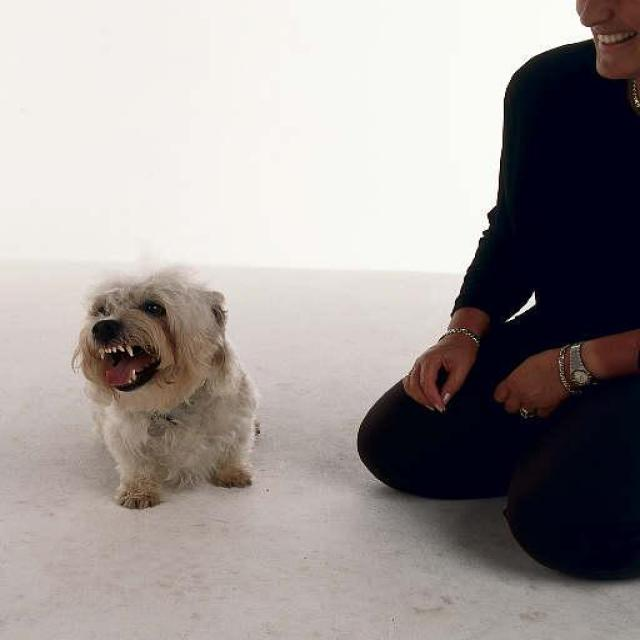dandie_dinmont: (72, 268, 266, 512)
